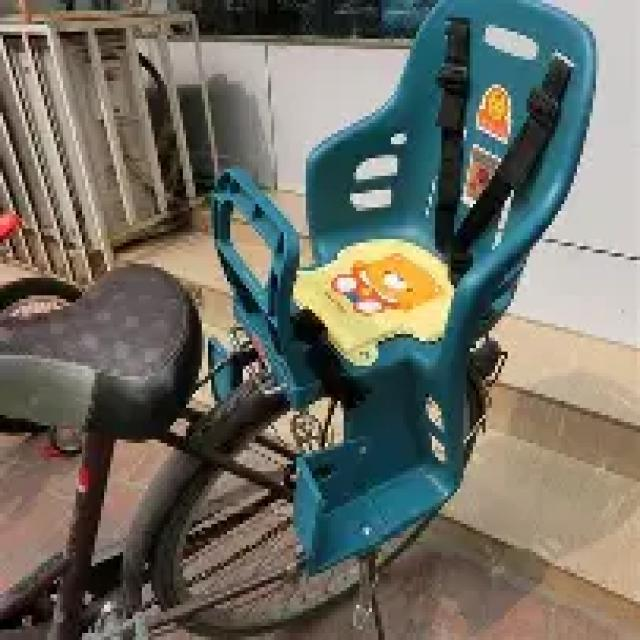childseat: (210, 1, 607, 574)
